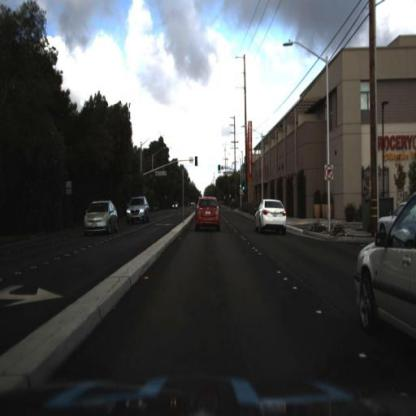car: (349, 183, 416, 353), (188, 189, 231, 238), (80, 194, 120, 239), (255, 191, 291, 239), (81, 199, 121, 236), (123, 191, 154, 227), (126, 195, 150, 226)
trafficLight-Green: (215, 161, 225, 181), (243, 185, 247, 197), (239, 183, 243, 194)
